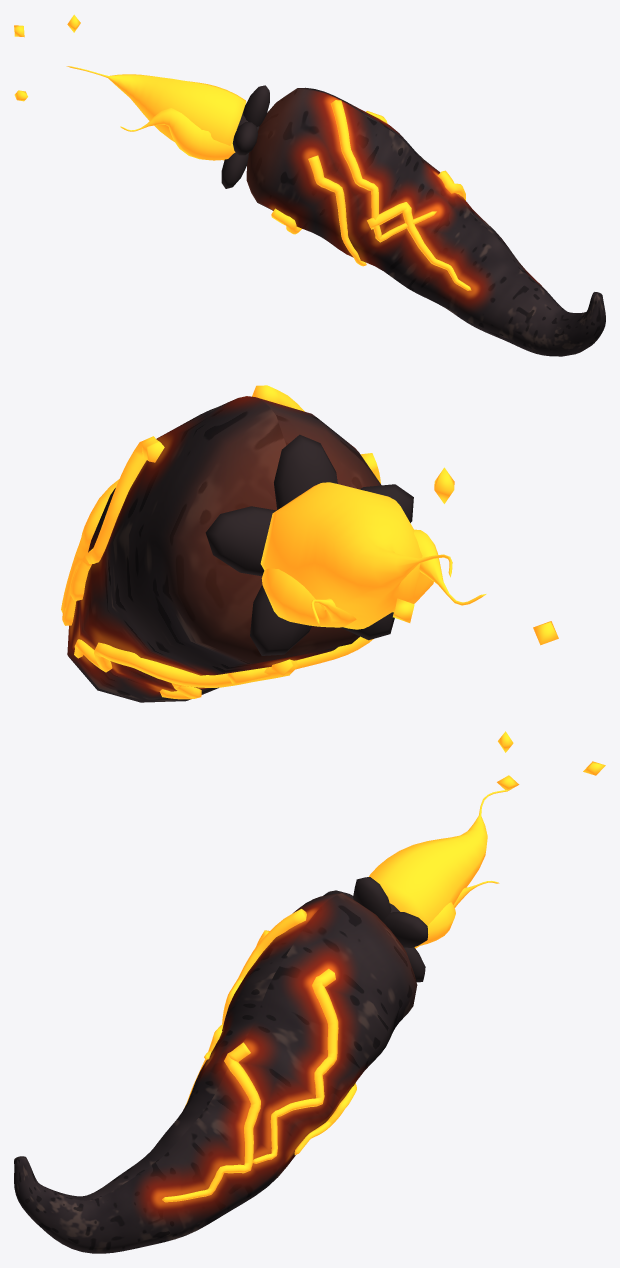
Rendered from MagmaPepper.glb.
3 renders of one model, top to bottom at view 1: azimuth 30°, elevation 25°; view 2: azimuth 150°, elevation 25°; view 3: azimuth 270°, elevation 25°, orthographic. The views are drawn at different scales.
Visible parts, largest first — view 1: MagmaPepper, MagmaPepper_Glow; view 2: MagmaPepper, MagmaPepper_Glow; view 3: MagmaPepper, MagmaPepper_Glow.
Part boxes in pixels (x1,y1,x2,y2): MagmaPepper: (221, 85, 605, 356); MagmaPepper_Glow: (14, 14, 471, 290); MagmaPepper: (67, 396, 413, 702); MagmaPepper_Glow: (61, 385, 558, 699); MagmaPepper: (14, 877, 427, 1253); MagmaPepper_Glow: (162, 731, 605, 1202).
Size of the model in its own units: 1.36 by 0.9703 by 1.53.
2 materials, 1 textured.
